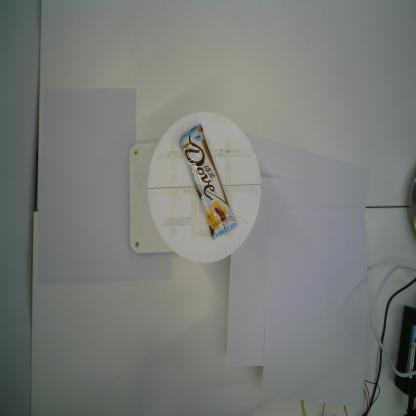Chocolate: (179, 123, 237, 240)
